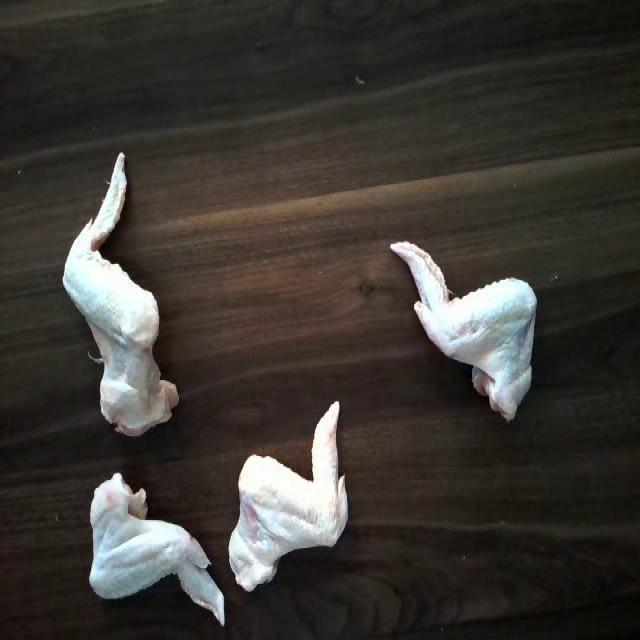wing: (54, 158, 182, 438), (387, 234, 539, 431), (232, 403, 360, 600), (80, 476, 225, 634)
